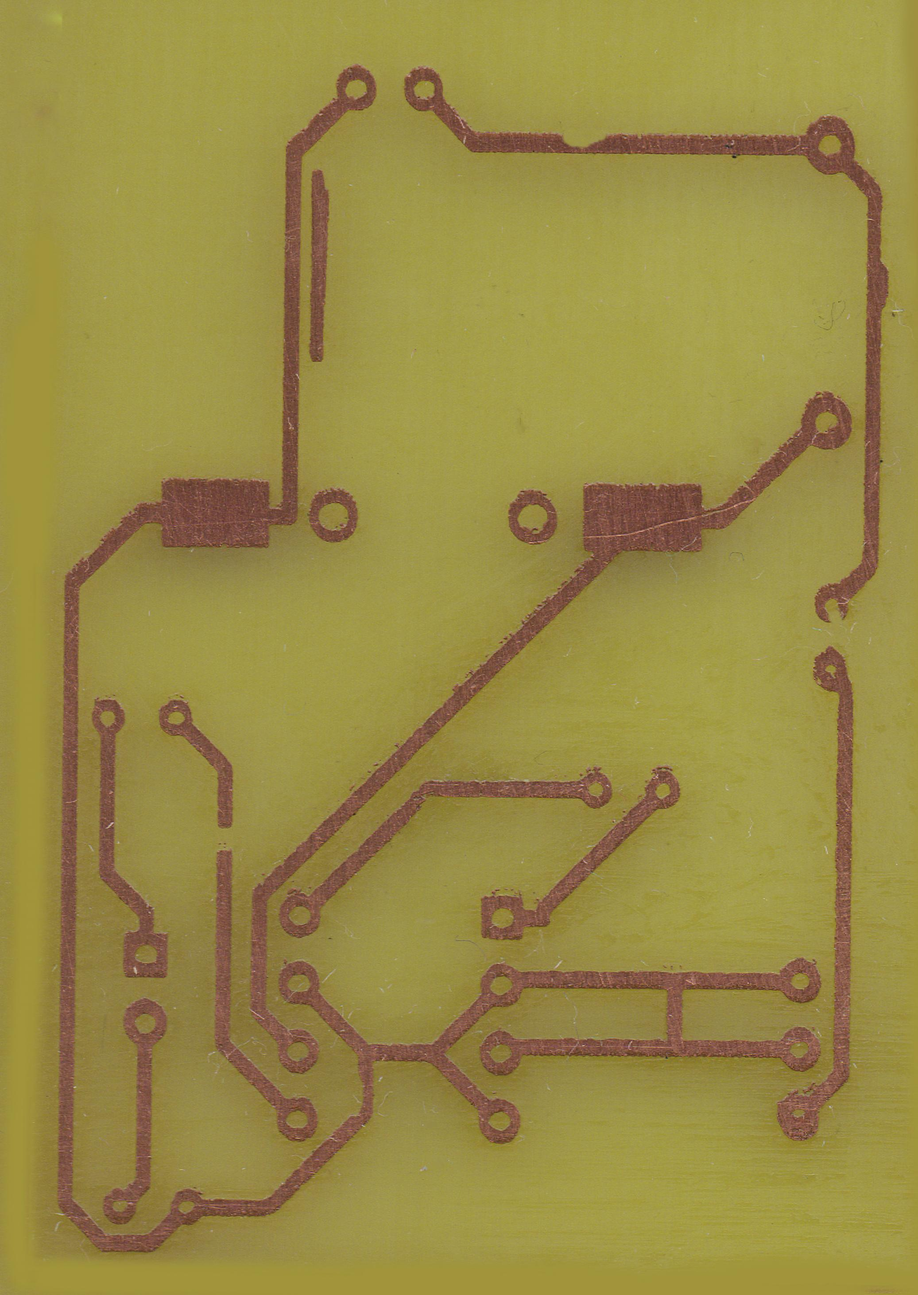missing_hole: (811, 578, 853, 629)
mouse_bite: (551, 127, 614, 161)
open_circuit: (210, 812, 237, 868)
short: (658, 959, 694, 1063)
spur: (863, 250, 892, 322)
spurious_copper: (305, 171, 332, 371)
